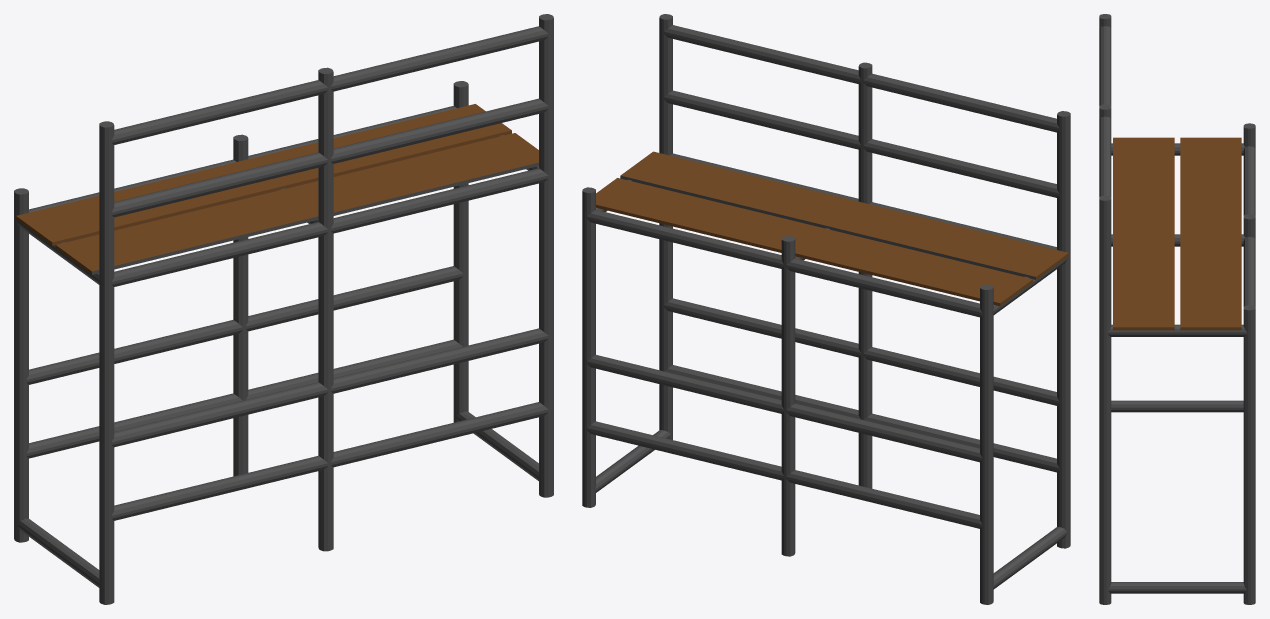
3 renders of one model, left to right at view 1: azimuth 30°, elevation 25°; view 2: azimuth 150°, elevation 25°; view 3: azimuth 270°, elevation 25°, orthographic. The views are drawn at different scales.
Visible parts, largest first — view 1: I-44; view 2: I-44; view 3: I-44.
Part boxes in pixels (x1=…): I-44: x1=14, y1=14, x2=553, y2=604; I-44: x1=582, y1=14, x2=1070, y2=604; I-44: x1=1099, y1=14, x2=1255, y2=604.
Bounding box in the file's own units: 787 × 781 × 274.
